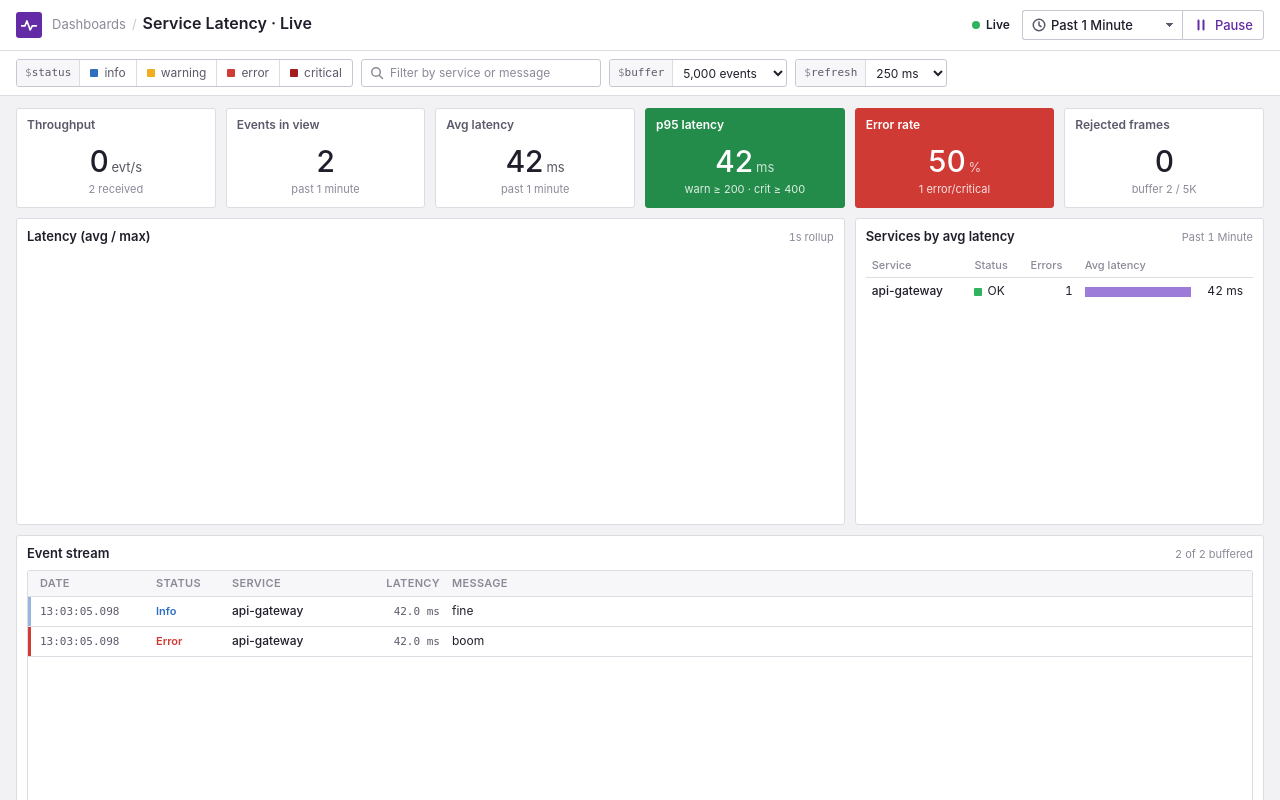
Dashboard (integration with a fake socket) › severity filter keeps KPIs, chart and list consistent
The image size is (1280, 800).
Click the button "critical": (316, 73) [279,60,352,86]
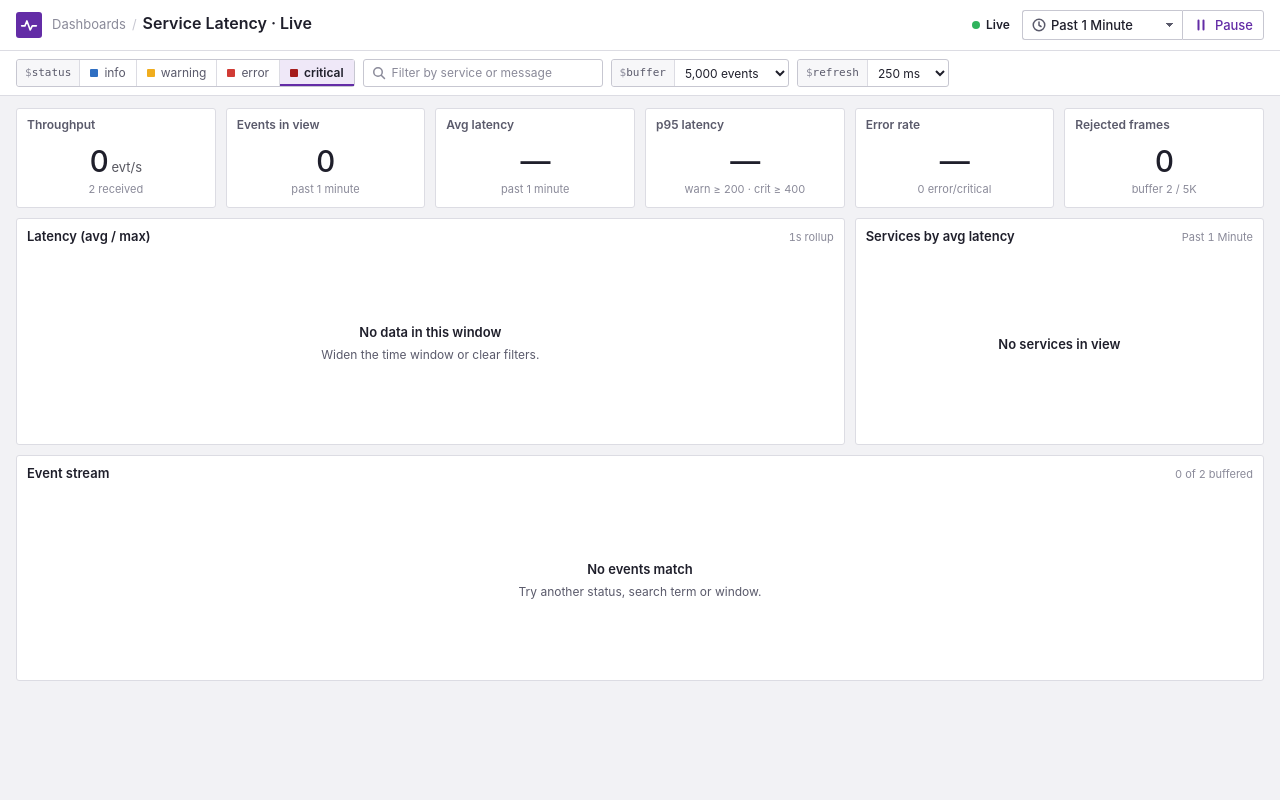
Expected: the text "No events match" is shown, [587,560,693,578]
Click the button "critical": (316, 73) [279,60,354,86]
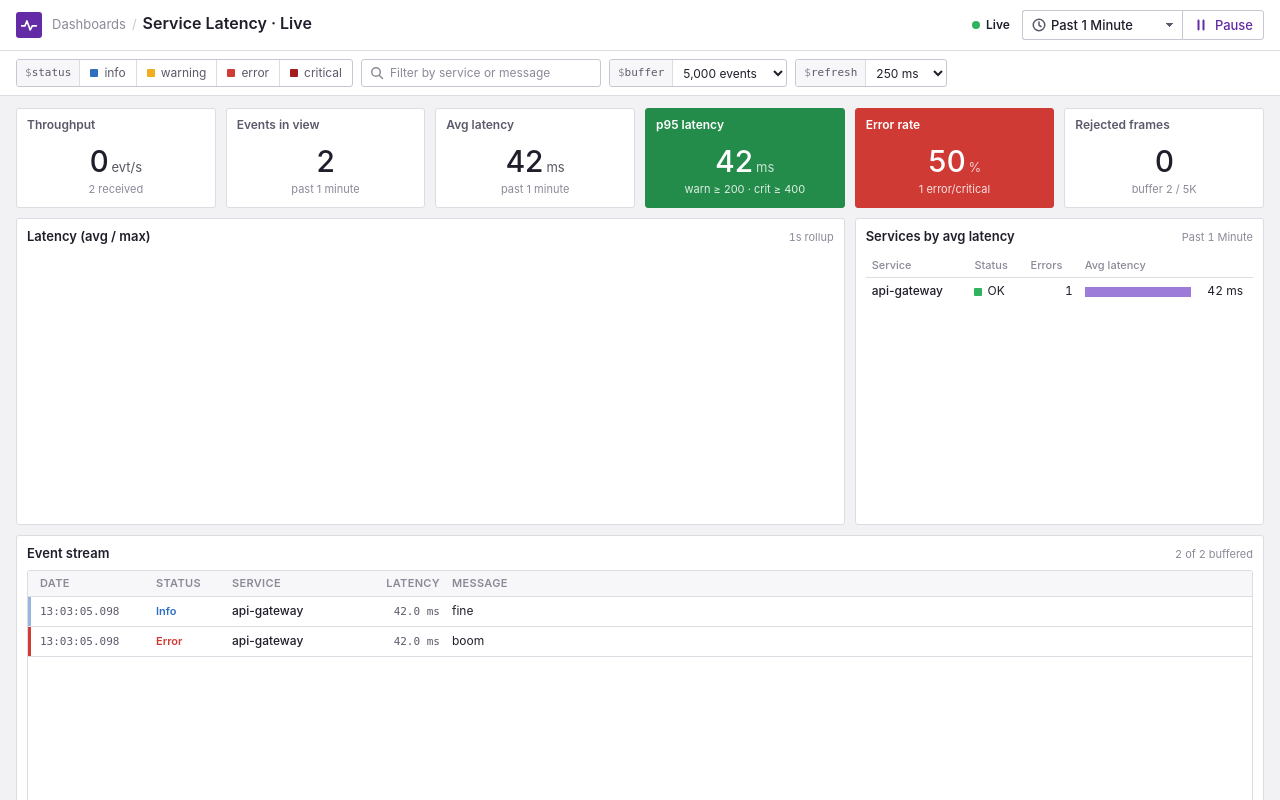
Click the button "error": (248, 73) [216,60,279,86]
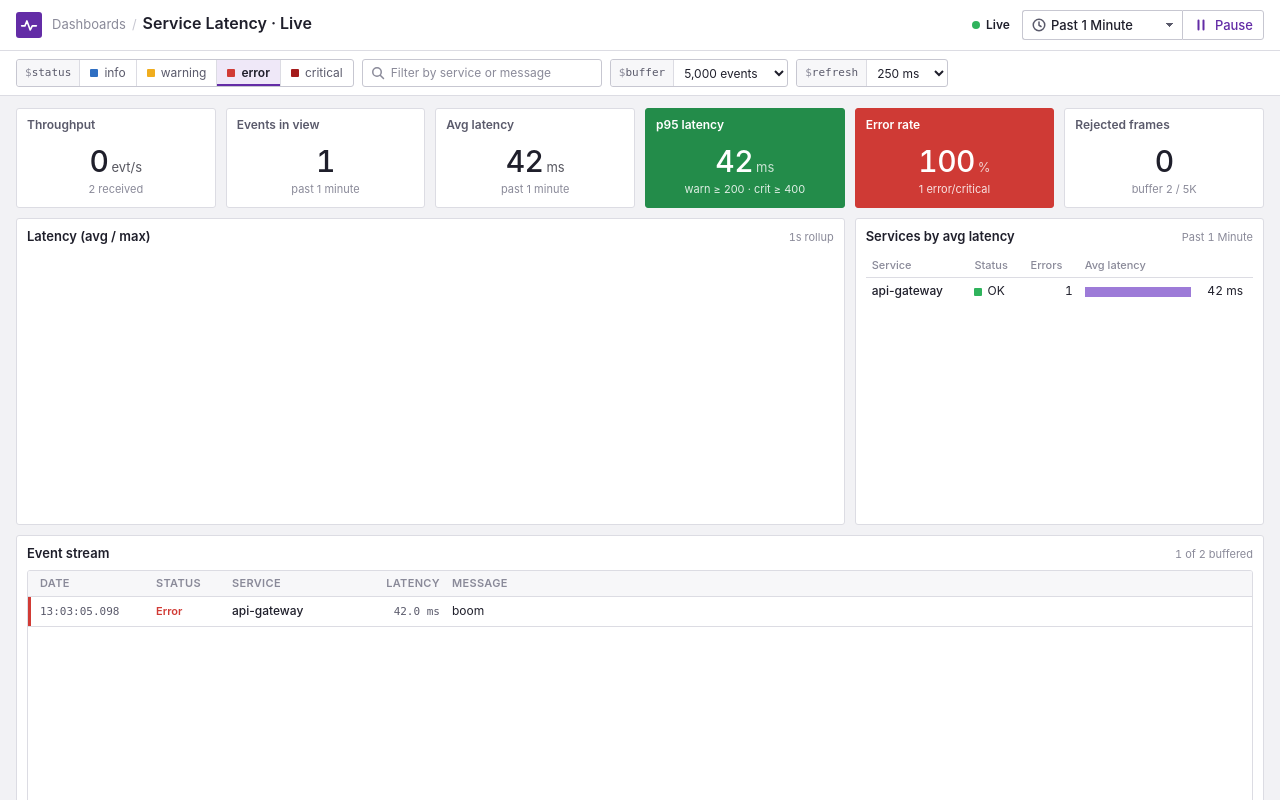
Expected: the text "boom" is shown, [452,603,484,618]
Expected: the text "fine" is gone
